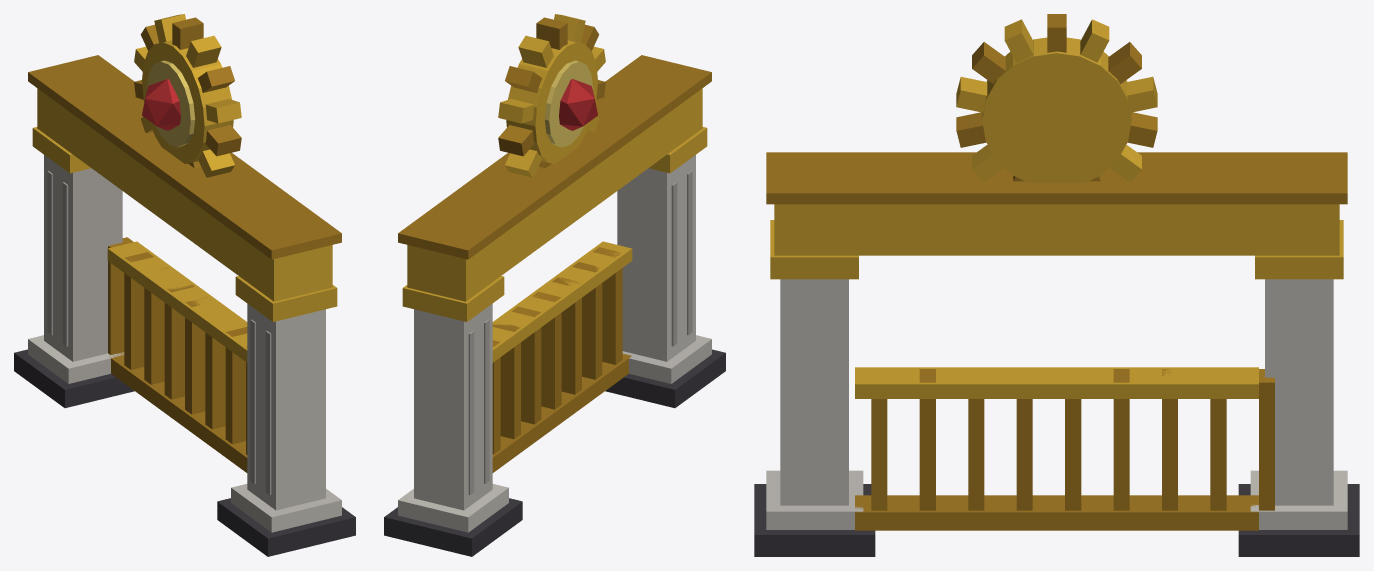
Rendered from Decor_GoldVault_Arch.fbx.
3 renders of one model, left to right at view 1: azimuth 30°, elevation 25°; view 2: azimuth 150°, elevation 25°; view 3: azimuth 270°, elevation 25°, orthographic. The views are drawn at different scales.
Visible parts, largest first — view 1: Arch_Body; view 2: Arch_Body; view 3: Arch_Body.
Boxes of the visible parts, x1,y1,x2,y2 form: Arch_Body: (14, 14, 355, 556); Arch_Body: (384, 14, 725, 556); Arch_Body: (754, 14, 1359, 556).
Size of the model in its own units: 6 by 28 by 30.
